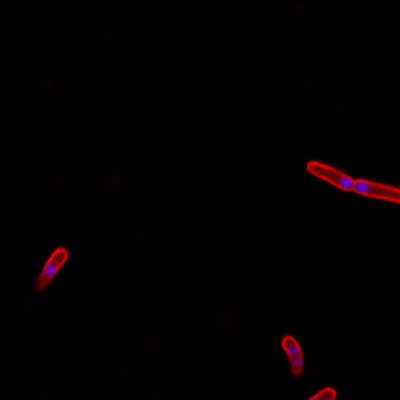Nalidixate: (305, 156, 400, 207)
Oblique: (30, 243, 71, 296), (278, 332, 306, 380)
